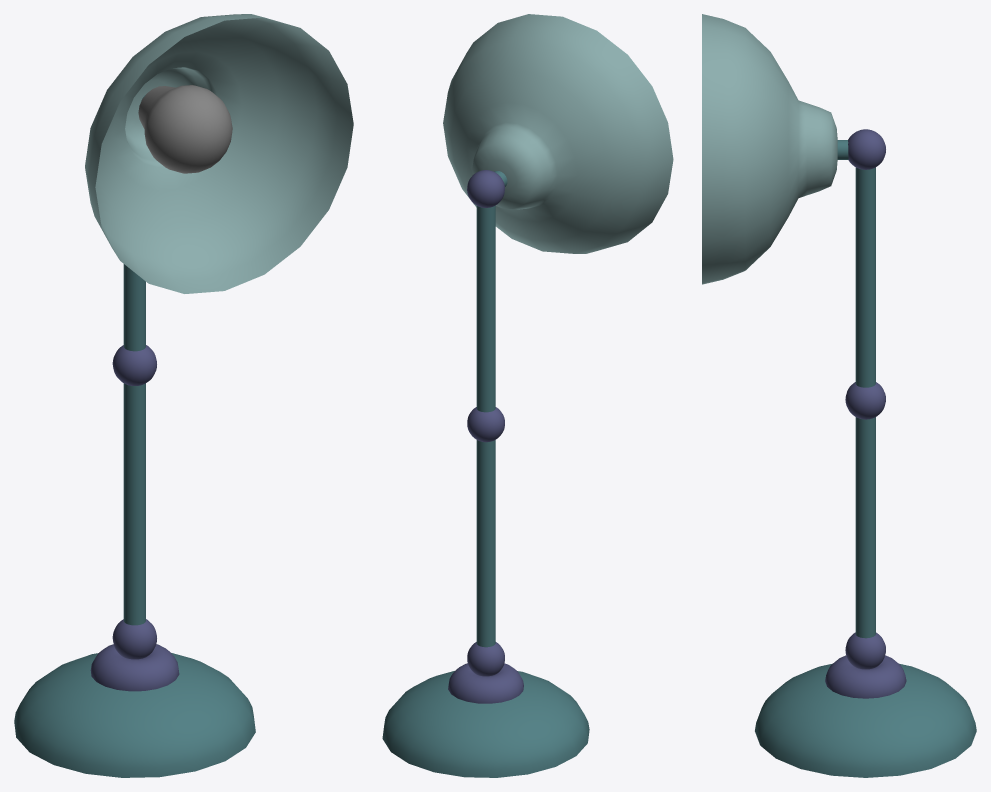
File: desklamp.obj
3 renders of one model, left to right at view 1: azimuth 30°, elevation 25°; view 2: azimuth 150°, elevation 25°; view 3: azimuth 270°, elevation 25°, orthographic. The views are drawn at different scales.
Visible parts, largest first — view 1: lamp_bulb; view 2: lamp_bulb; view 3: lamp_bulb.
Boxes of the visible parts, x1,y1,x2,y2 form: lamp_bulb: (14,14,353,777); lamp_bulb: (382,14,673,777); lamp_bulb: (702,14,976,777).
Bounding box in the file's own units: 3.69 × 10.52 × 3.71.
